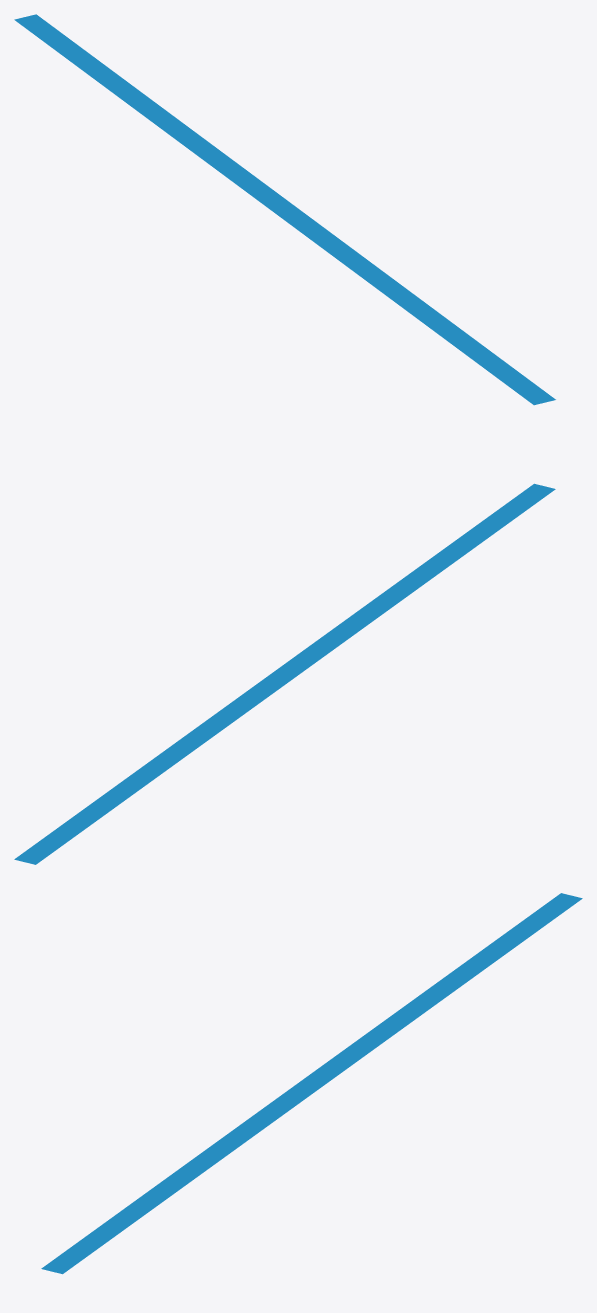
Rendered from guide.glb.
3 renders of one model, top to bottom at view 1: azimuth 30°, elevation 25°; view 2: azimuth 150°, elevation 25°; view 3: azimuth 330°, elevation 25°, orthographic.
Parts seen in each view (by area): view 1: static; view 2: static; view 3: static.
Boxes of the visible parts, left/top/right/bottom form: static: left=14, top=14, right=555, bottom=405; static: left=14, top=483, right=555, bottom=864; static: left=41, top=893, right=582, bottom=1274.
Bounding box in the file's own units: 1 × 0 × 14.
